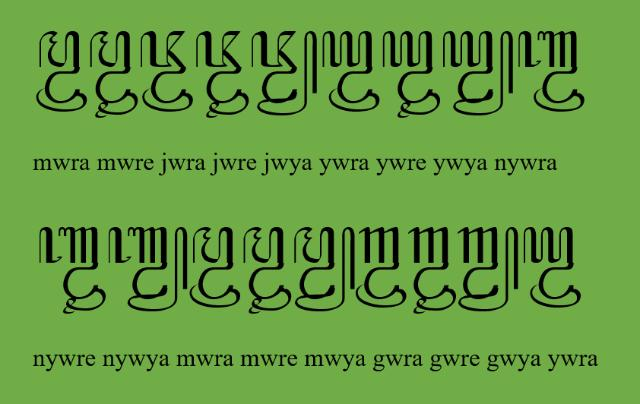gwr: (356, 227, 406, 310)
gwre: (407, 227, 457, 315)
gwy: (456, 226, 520, 312)
jwr: (140, 29, 194, 112)
jwre: (195, 31, 249, 119)
jwy: (251, 29, 317, 116)
mwr: (36, 30, 88, 113), (190, 227, 240, 309)
mwre: (89, 30, 139, 120), (242, 227, 292, 316)
mwy: (293, 227, 355, 313)
nywr: (518, 31, 584, 113)
nywre: (38, 227, 106, 316)
nywy: (108, 227, 188, 313)
ywr: (522, 227, 582, 309), (322, 30, 380, 113)
ywre: (383, 29, 441, 118)
ywy: (442, 30, 514, 116)
